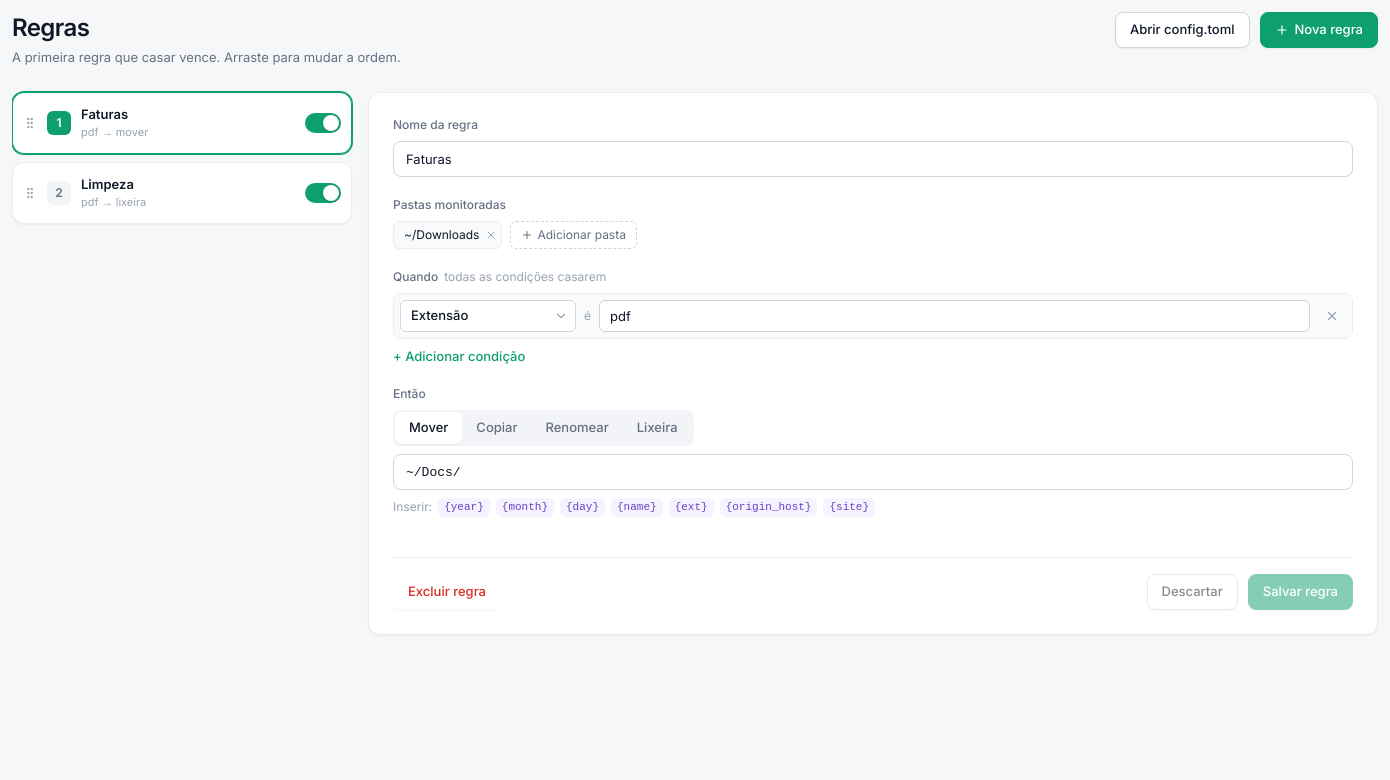
Rules › saves the edited draft with the loaded mtime
The width and height of the screenshot is (1390, 780).
Replace the text in the field named "Nome da regra" with "Faturas 2" at point(873, 158), box [393,140,1353,176]
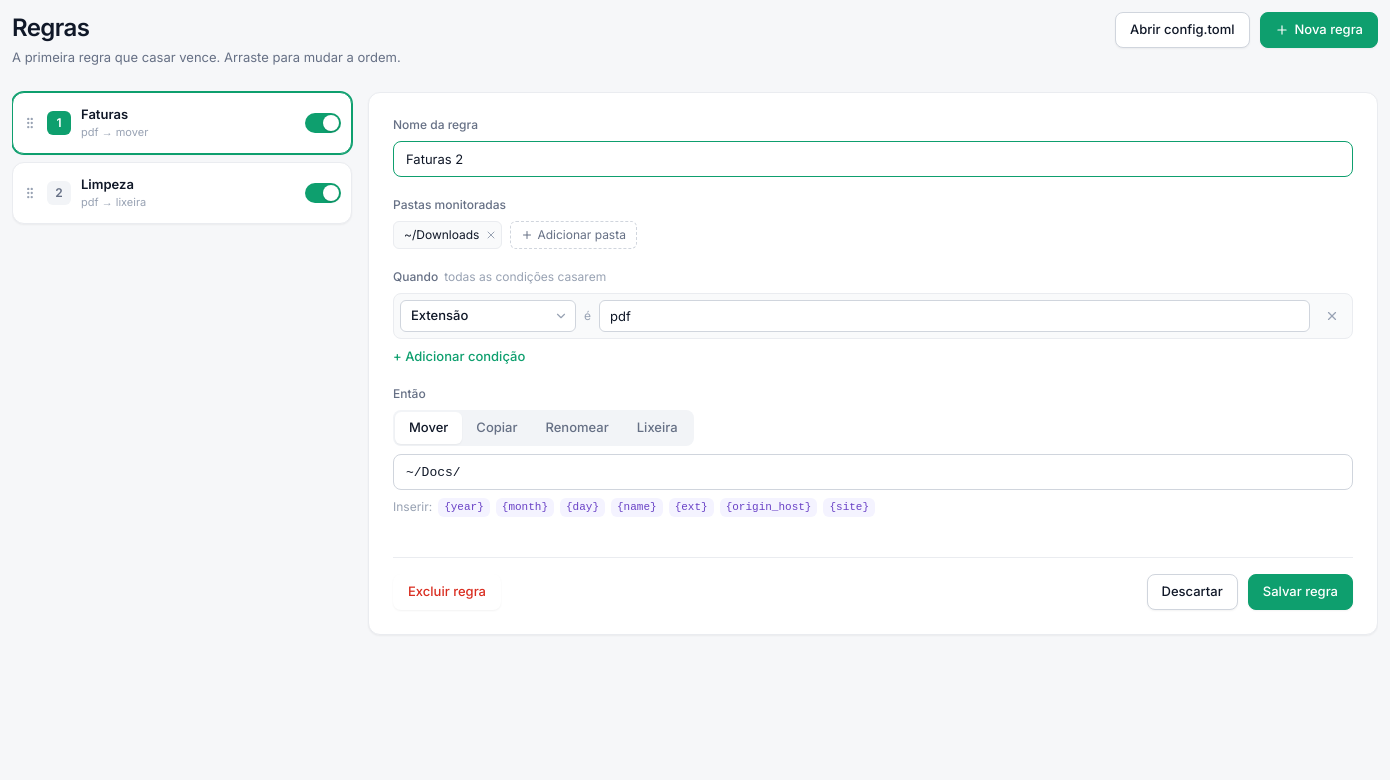
Click the button "Salvar regra" at point(1300, 592), box [1248,574,1353,610]
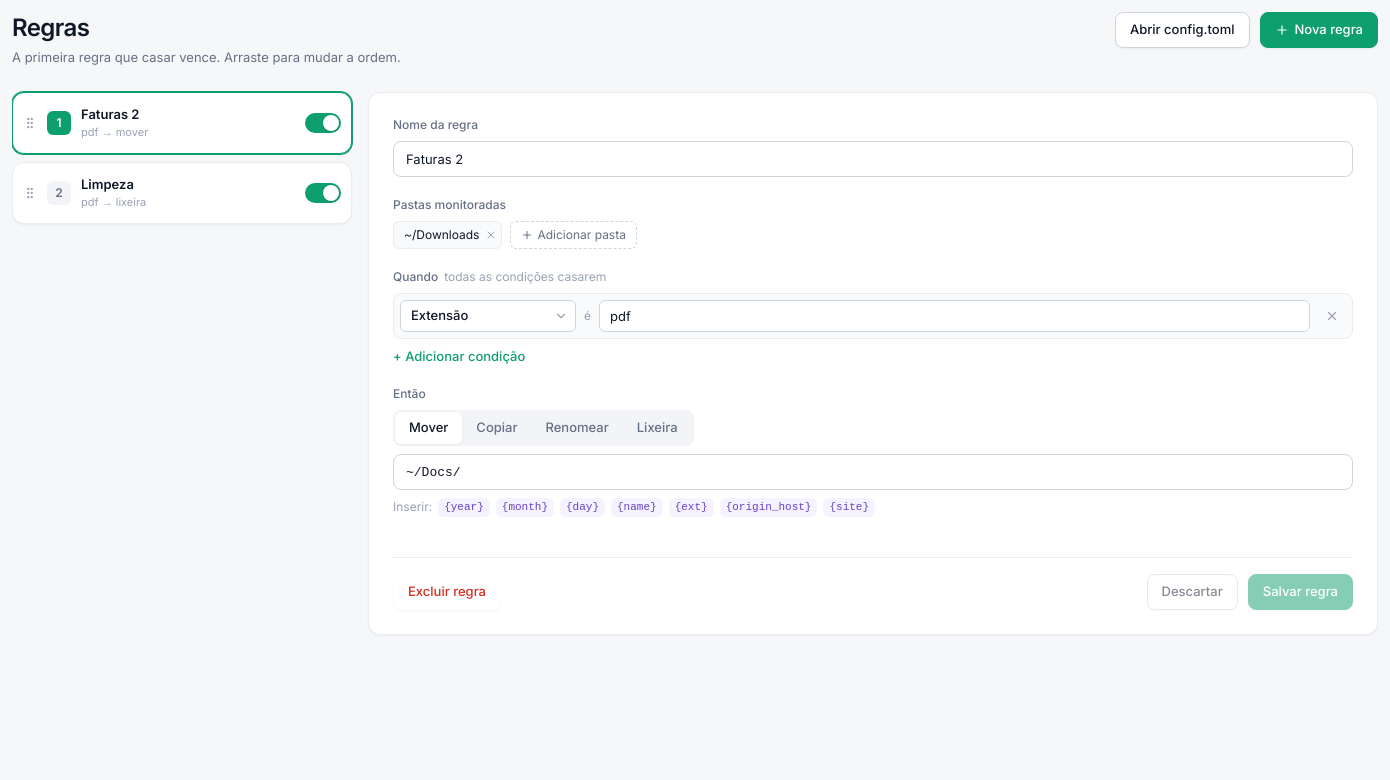
Now the text "Faturas 2" is shown, box [81,106,139,122]
